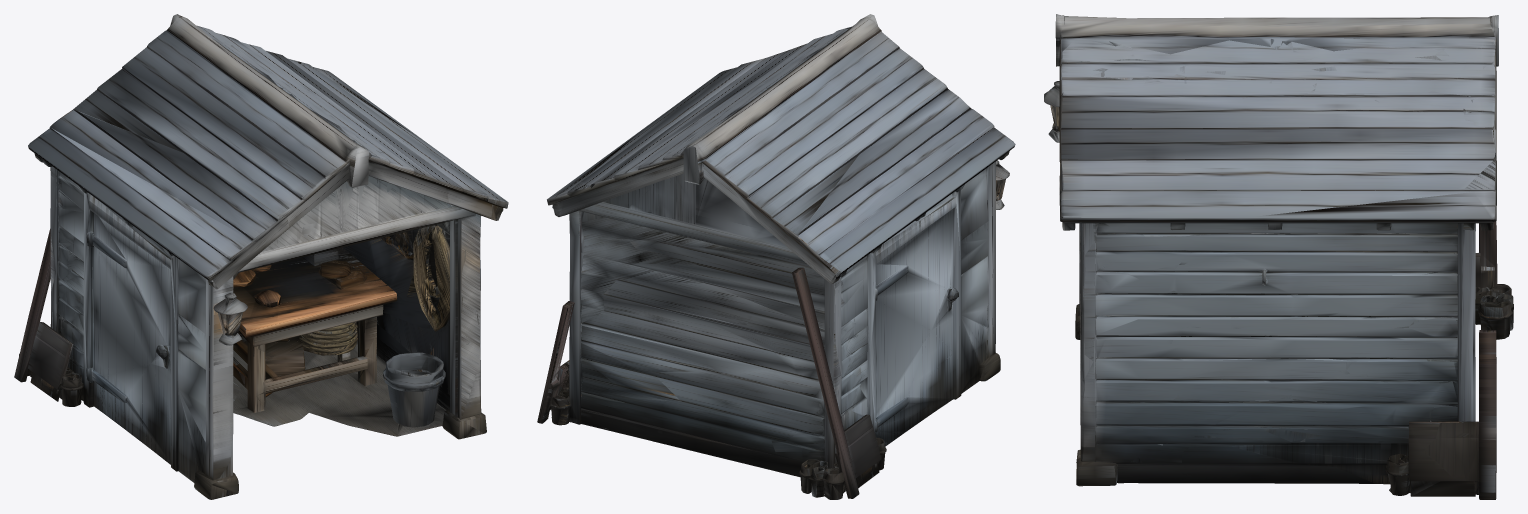
File: slt_equipment_hut.glb
3 views of the same model, side by side, from view 1: azimuth 30°, elevation 25°; view 2: azimuth 150°, elevation 25°; view 3: azimuth 270°, elevation 25° (orthographic). The views are drawn at different scales.
Visible parts, largest first — view 1: material; view 2: material; view 3: material.
Part boxes in pixels (x1,y1,x2,y2): material: (14,14,508,499); material: (537,14,1015,499); material: (1044,14,1513,499).
Size of the model in its own units: 0.7156 by 0.6856 by 0.746.
Materials: 1 (1 with a texture image).
